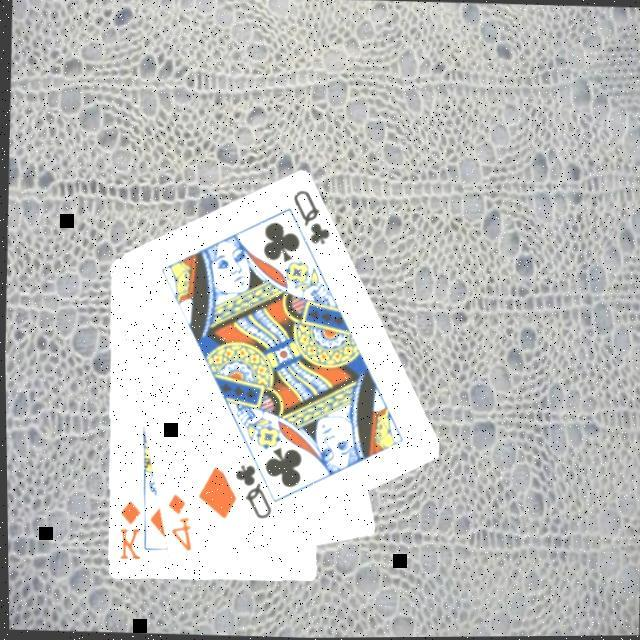4D: (161, 488, 195, 554)
KD: (114, 494, 142, 562)
QC: (287, 184, 335, 248), (228, 458, 275, 522)
